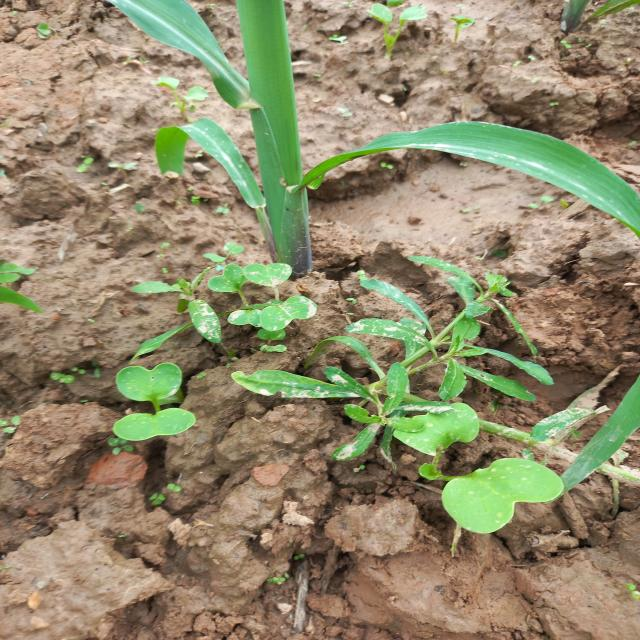maize: (154, 0, 369, 259), (407, 120, 640, 221)
weed: (335, 274, 640, 534), (133, 254, 294, 442)
